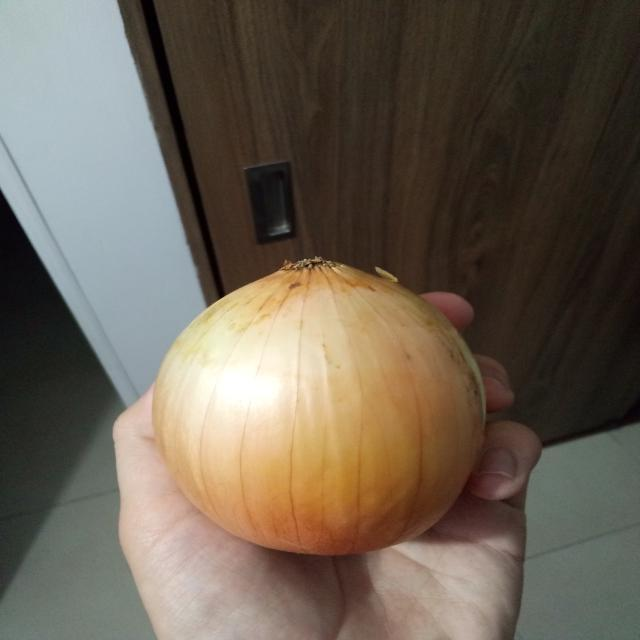Onion: (150, 258, 489, 560)
